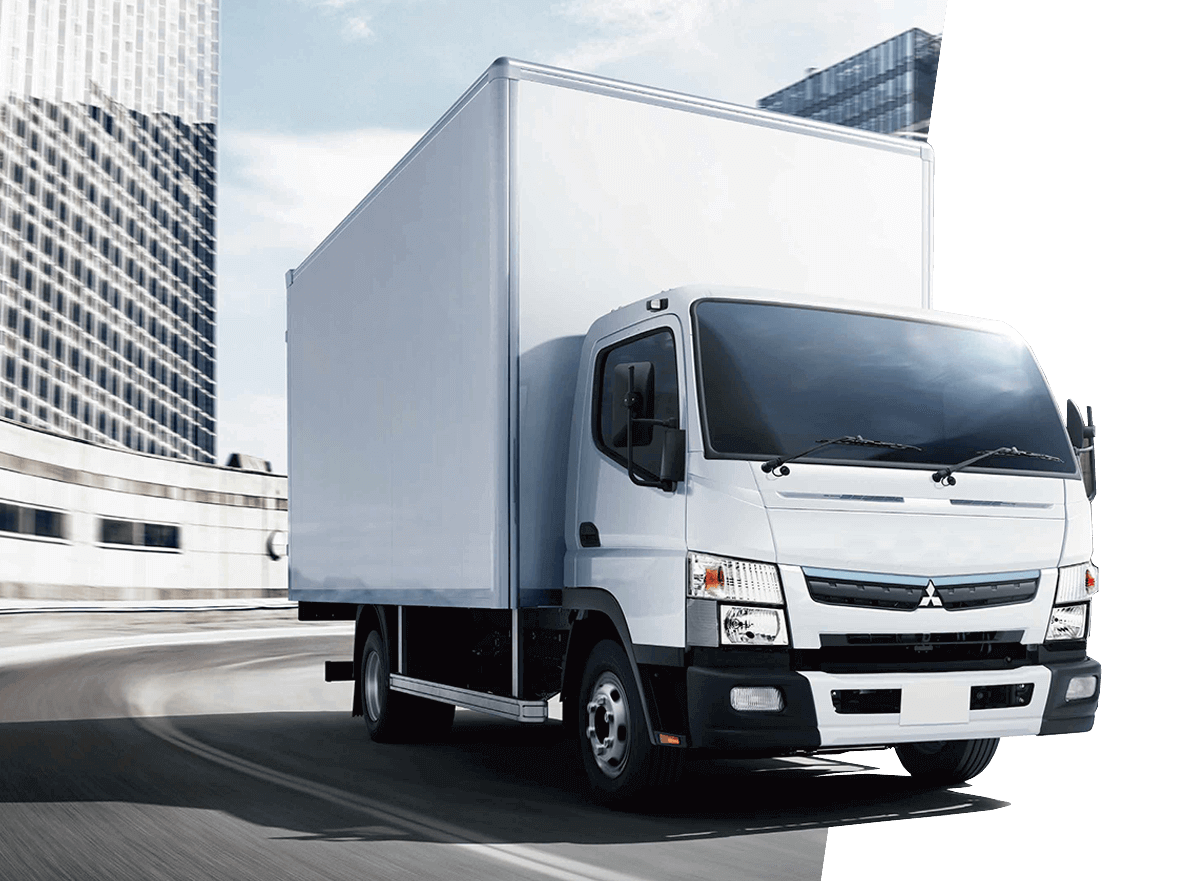truck: (284, 59, 1106, 814)
